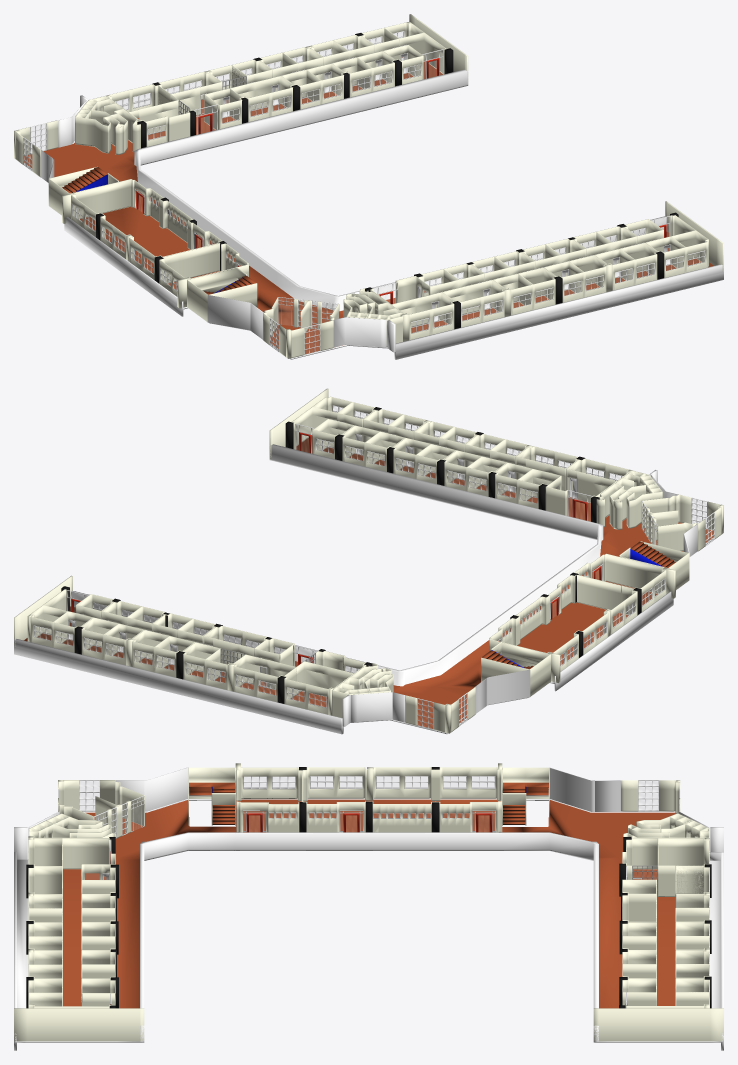
Rendered from Lantai 2.obj.
3 views of the same model, one above another, from view 1: azimuth 30°, elevation 25°; view 2: azimuth 150°, elevation 25°; view 3: azimuth 270°, elevation 25° (orthographic). The views are drawn at different scales.
Visible parts, largest first — view 1: Lantai_2, Tembok_Lantai_2, Aula_Handayani, Pillar, Tangga, Lounge, Tata_Usaha, Ruang_Sidang, IF_224, IF_217B, IF_217A, IF_223 (+30 smaller); view 2: Lantai_2, Tembok_Lantai_2, Aula_Handayani, Pillar, Tangga, Lounge, Tata_Usaha, Ruang_Sidang, IF_223, IF_217B, IF_218, IF_224 (+32 smaller); view 3: Lantai_2, Aula_Handayani, Tembok_Lantai_2, Tangga, Ruang_Sidang, Tata_Usaha, Lounge, Pillar, IF_217B, IF_222, IF_218, IF_223 (+24 smaller).
Boxes of the visible parts, box(x1,y1,x2,y2) form: Lantai_2: box(24, 14, 723, 359); Tembok_Lantai_2: box(15, 95, 395, 352); Aula_Handayani: box(71, 179, 221, 279); Pillar: box(14, 21, 678, 358); Tangga: box(48, 166, 257, 321); Lounge: box(263, 297, 339, 358); Tata_Usaha: box(108, 84, 192, 146); Ruang_Sidang: box(159, 243, 248, 296); IF_224: box(230, 76, 293, 121); IF_217B: box(370, 288, 454, 340); IF_217A: box(442, 280, 505, 327); IF_223: box(158, 72, 222, 115); Lantai_2: box(14, 388, 713, 734); Tembok_Lantai_2: box(342, 470, 697, 732); Aula_Handayani: box(489, 574, 637, 671); Pillar: box(27, 407, 723, 733); Tangga: box(481, 541, 689, 696); Lounge: box(641, 494, 721, 551); Tata_Usaha: box(284, 651, 366, 714); Ruang_Sidang: box(574, 553, 666, 611); IF_223: box(233, 654, 296, 702); IF_217B: box(566, 458, 629, 502); IF_218: box(517, 469, 567, 515); IF_224: box(203, 625, 267, 664); Lantai_2: box(14, 787, 723, 1050); Aula_Handayani: box(302, 767, 502, 832); Tembok_Lantai_2: box(14, 767, 723, 859); Tangga: box(188, 767, 549, 825); Ruang_Sidang: box(236, 767, 302, 832); Tata_Usaha: box(622, 838, 709, 896); Lounge: box(58, 780, 144, 838); Pillar: box(26, 763, 711, 1008); IF_217B: box(28, 838, 110, 869); IF_222: box(622, 879, 656, 921); IF_218: box(81, 853, 115, 893); IF_223: box(675, 865, 709, 893).
Size of the model in its own units: 67.6 by 5.3 by 82.08.
